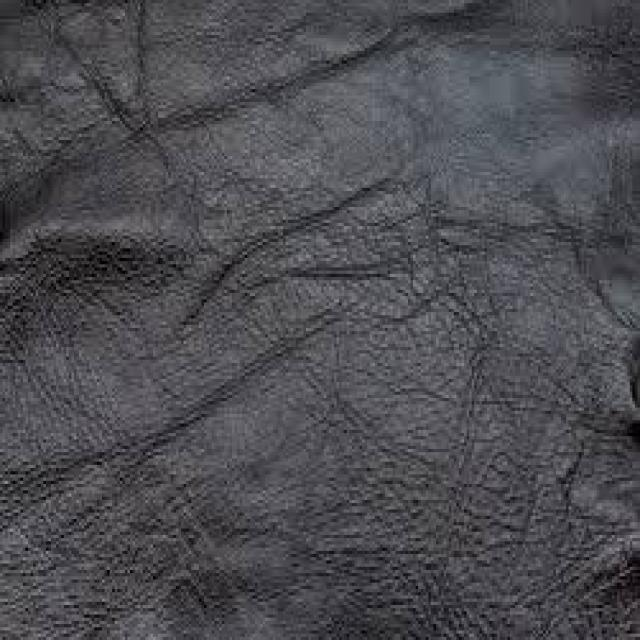Crease: (48, 178, 216, 307)
